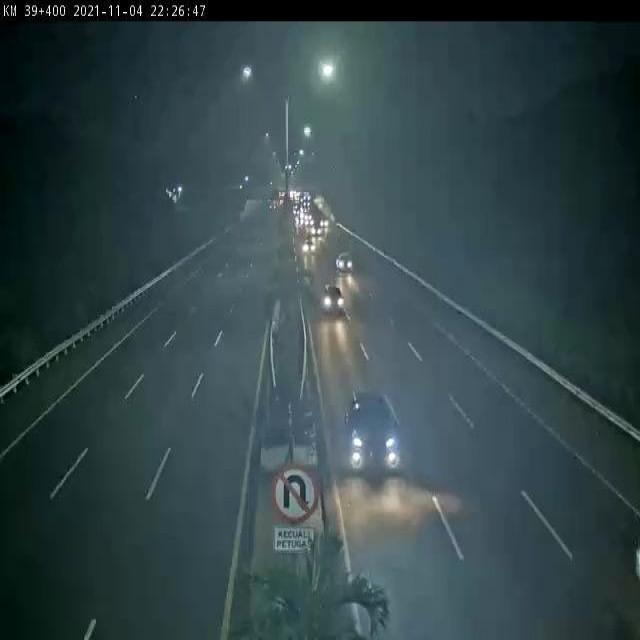car: (346, 396, 402, 472), (321, 282, 345, 314), (335, 249, 356, 276)
